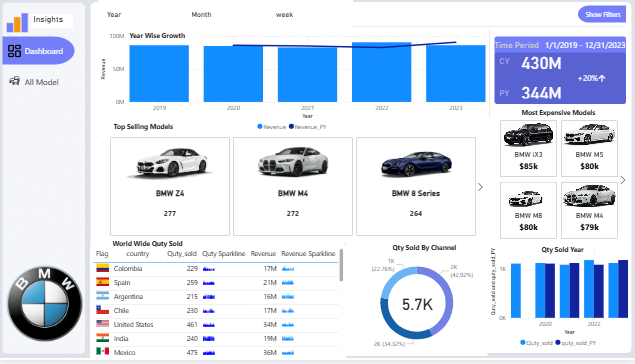

Layout of this report page (visuals, bound fields, positions):
{"tool":"powerbi","page":{"name":"Dashboard","canvas":[1280,720],"ordinal":1},"visuals":[{"type":"image","box":[11.7,81.7,45,40],"z":0},{"type":"shape","box":[51.3,86.7,84,30],"z":1000},{"type":"shape","box":[34,143.1,110.6,39.7],"z":2000},{"type":"image","box":[11.7,146.7,45,30],"z":3000},{"type":"lineStackedColumnComboChart","fields":{"Category":["Calendar.Year","Calendar.Month","Calendar.week"],"Y":["All Measures.Revenue"],"Y2":["All Measures.Revenue_PY"]},"box":[201.4,57.1,780,212.9],"z":4000},{"type":"advancedSlicerVisual","fields":{"Values":["custom_slicer.custom_slicer"]},"box":[201.7,0,510,56.7],"z":5000},{"type":"advancedSlicerVisual","fields":{"Values":["dim_model.Model"]},"box":[201.7,270,780,206.7],"z":6000},{"type":"donutChart","fields":{"Y":["All Measures.Quty_sold"],"Category":["dim_channel.channel"]},"box":[698.3,500,283.3,211.7],"z":7000},{"type":"card","fields":{"Values":["All Measures.Quty_sold"]},"box":[801.7,583.3,76.7,45],"z":8000},{"type":"clusteredColumnChart","fields":{"Y":["All Measures.Quty_sold","All Measures.quty_sold_PY"],"Category":["Calendar.Year"]},"box":[981.7,476.7,285,226.7],"z":9000},{"type":"advancedSlicerVisual","fields":{"Values":["dim_model.Model"]},"box":[981.7,236.7,285,246.7],"z":10000},{"type":"tableEx","fields":{"Values":["dim_country.countries_flags_images.flag","dim_country.country","All Measures.Quty_sold","All Measures.Quty Sparkline","All Measures.Revenue","All Measures.Revenue Sparkline"]},"box":[186.7,491.7,511.7,228.3],"z":11000},{"type":"image","box":[0,525,190,161.7],"z":12000},{"type":"textbox","box":[260,56.7,151.7,30],"z":13000},{"type":"textbox","box":[227.1,237.1,151.4,30],"z":14000},{"type":"textbox","box":[1044,210,186,28],"z":15000},{"type":"textbox","box":[226.7,471.7,163.3,28.3],"z":16000},{"type":"textbox","box":[785,480,151.7,28.3],"z":17000},{"type":"textbox","box":[1083.3,483.3,105.6,28.9],"z":18000},{"type":"shape","box":[1141.8,121.8,94.5,66.4],"z":19000},{"type":"card","fields":{"Values":["All Measures.Revenue"]},"box":[1025.5,102.7,125.5,43.6],"z":20000},{"type":"textbox","title":"PY","box":[1000,176.7,36,19.3],"z":21000},{"type":"textbox","title":"CY","box":[1000,111.8,36.4,19.1],"z":22000},{"type":"card","fields":{"Values":["All Measures.Revenue_PY"]},"box":[1039.1,163.6,97.3,38.2],"z":23000},{"type":"shape","box":[1088.2,74.5,177.3,30.9],"z":24000},{"type":"textbox","title":"Time Period","box":[990,79.1,106.4,23.6],"z":25000},{"type":"image","box":[12.2,0,56.7,86.7],"z":26000},{"type":"textbox","title":"Insights","box":[68.9,28.9,84.4,27.8],"z":27000},{"type":"actionButton","box":[11.3,141.7,133.2,41.1],"z":28000},{"type":"actionButton","box":[18.4,82.2,126.1,39.7],"z":29000},{"type":"actionButton","box":[1161.2,8.8,100,40],"z":31000}]}

Visuals, with their boxes on the page's 1280x720 design canvas (x1, y1, x2, y2). These are canvas units, not pixel positions in the 635x364 screenshot, which may show the page scaled, cropped or inside an application window:
image: {"left": 12, "top": 82, "right": 57, "bottom": 122}
shape: {"left": 51, "top": 87, "right": 135, "bottom": 117}
shape: {"left": 34, "top": 143, "right": 145, "bottom": 183}
image: {"left": 12, "top": 147, "right": 57, "bottom": 177}
lineStackedColumnComboChart - Calendar.Year x Calendar.Month: {"left": 201, "top": 57, "right": 981, "bottom": 270}
advancedSlicerVisual - custom_slicer.custom_slicer: {"left": 202, "top": 0, "right": 712, "bottom": 57}
advancedSlicerVisual - dim_model.Model: {"left": 202, "top": 270, "right": 982, "bottom": 477}
donutChart - All Measures.Quty_sold x dim_channel.channel: {"left": 698, "top": 500, "right": 982, "bottom": 712}
card - All Measures.Quty_sold: {"left": 802, "top": 583, "right": 878, "bottom": 628}
clusteredColumnChart - All Measures.Quty_sold x All Measures.quty_sold_PY: {"left": 982, "top": 477, "right": 1267, "bottom": 703}
advancedSlicerVisual - dim_model.Model: {"left": 982, "top": 237, "right": 1267, "bottom": 483}
tableEx - dim_country.countries_flags_images.flag x dim_country.country: {"left": 187, "top": 492, "right": 698, "bottom": 720}
image: {"left": 0, "top": 525, "right": 190, "bottom": 687}
textbox: {"left": 260, "top": 57, "right": 412, "bottom": 87}
textbox: {"left": 227, "top": 237, "right": 378, "bottom": 267}
textbox: {"left": 1044, "top": 210, "right": 1230, "bottom": 238}
textbox: {"left": 227, "top": 472, "right": 390, "bottom": 500}
textbox: {"left": 785, "top": 480, "right": 937, "bottom": 508}
textbox: {"left": 1083, "top": 483, "right": 1189, "bottom": 512}
shape: {"left": 1142, "top": 122, "right": 1236, "bottom": 188}
card - All Measures.Revenue: {"left": 1026, "top": 103, "right": 1151, "bottom": 146}
"PY" textbox: {"left": 1000, "top": 177, "right": 1036, "bottom": 196}
"CY" textbox: {"left": 1000, "top": 112, "right": 1036, "bottom": 131}
card - All Measures.Revenue_PY: {"left": 1039, "top": 164, "right": 1136, "bottom": 202}
shape: {"left": 1088, "top": 74, "right": 1266, "bottom": 105}
"Time Period" textbox: {"left": 990, "top": 79, "right": 1096, "bottom": 103}
image: {"left": 12, "top": 0, "right": 69, "bottom": 87}
"Insights" textbox: {"left": 69, "top": 29, "right": 153, "bottom": 57}
actionButton: {"left": 11, "top": 142, "right": 144, "bottom": 183}
actionButton: {"left": 18, "top": 82, "right": 144, "bottom": 122}
actionButton: {"left": 1161, "top": 9, "right": 1261, "bottom": 49}
